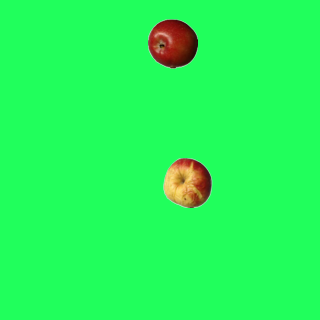Apple Braeburn: (147, 18, 197, 68)
Apple Red Yellow 1: (162, 157, 212, 207)
